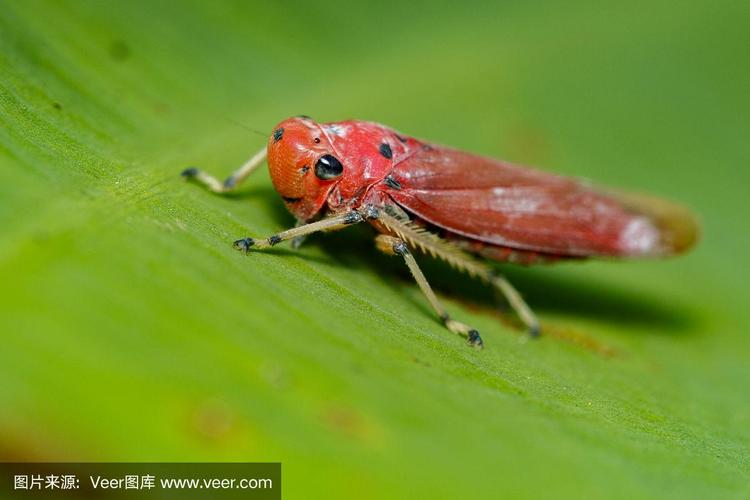Cicadellidae: (233, 115, 703, 349)
